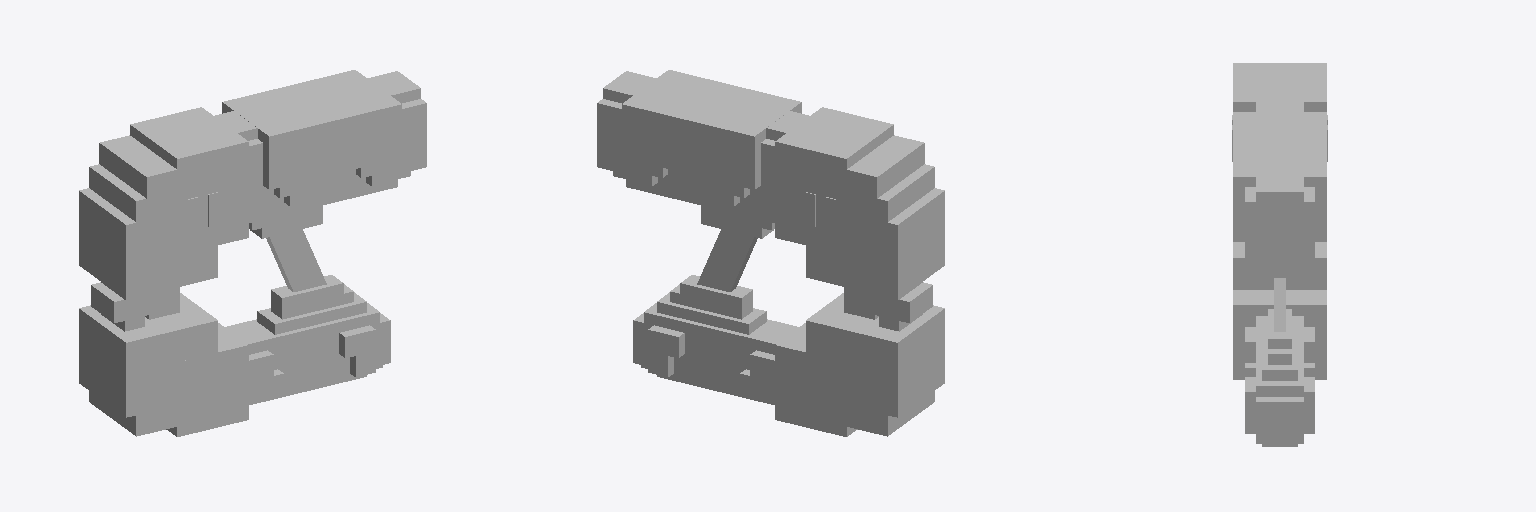
Rendered from matter_manipulator.obj.
3 views of the same model, side by side, from view 1: azimuth 30°, elevation 25°; view 2: azimuth 150°, elevation 25°; view 3: azimuth 270°, elevation 25° (orthographic).
Visible parts, largest first — view 1: Up12, Up3, Down15, Down12, Up2, Up1, Down14, Up10, Up4, Down1, Down11, Mid4 (+16 smaller); view 2: Up12, Up3, Down15, Down12, Up2, Up1, Down14, Up10, Up4, Down1, Down11, Mid4 (+16 smaller); view 3: Up12, Up10, Down12, Up3, Down16, Down15, Up11, Down11, Mid1, Mid3, Mid4, Down4 (+1 smaller).
Part boxes in pixels (left/top/right/bottom): Up12: left=222, top=70, right=401, bottom=189; Up3: left=130, top=107, right=248, bottom=254; Down15: left=79, top=293, right=217, bottom=374; Down12: left=166, top=323, right=248, bottom=436; Up2: left=79, top=188, right=176, bottom=267; Up1: left=79, top=234, right=217, bottom=299; Down14: left=79, top=341, right=176, bottom=417; Up10: left=249, top=99, right=426, bottom=210; Up4: left=99, top=135, right=176, bottom=219; Down1: left=268, top=333, right=349, bottom=388; Down11: left=225, top=303, right=379, bottom=354; Mid4: left=266, top=229, right=326, bottom=291; Up12: left=622, top=70, right=801, bottom=189; Up3: left=775, top=107, right=893, bottom=254; Down15: left=806, top=293, right=944, bottom=374; Down12: left=775, top=323, right=857, bottom=436; Up2: left=847, top=188, right=944, bottom=267; Up1: left=806, top=234, right=944, bottom=299; Down14: left=847, top=341, right=944, bottom=417; Up10: left=597, top=99, right=774, bottom=210; Up4: left=847, top=135, right=924, bottom=219; Down1: left=674, top=333, right=755, bottom=388; Down11: left=644, top=303, right=798, bottom=354; Mid4: left=697, top=229, right=757, bottom=291; Up12: left=1233, top=112, right=1326, bottom=229; Up10: left=1245, top=187, right=1314, bottom=266; Down12: left=1233, top=290, right=1326, bottom=379; Up3: left=1233, top=67, right=1326, bottom=111; Down16: left=1256, top=397, right=1303, bottom=443; Down15: left=1233, top=242, right=1326, bottom=289; Up11: left=1256, top=102, right=1303, bottom=201; Down11: left=1256, top=316, right=1303, bottom=396; Mid1: left=1262, top=325, right=1297, bottom=380; Mid3: left=1268, top=309, right=1291, bottom=348; Mid4: left=1274, top=278, right=1285, bottom=331; Down4: left=1304, top=382, right=1314, bottom=433.
Bounding box in the file's own units: 15 × 13 × 4.1.